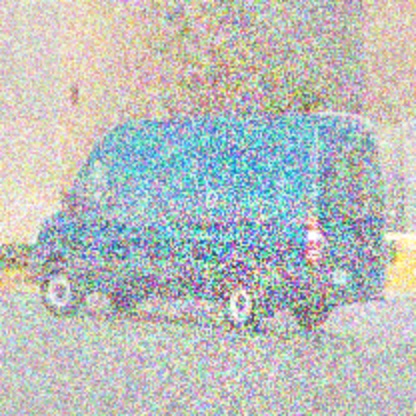Vehicle: (33, 114, 385, 333)
